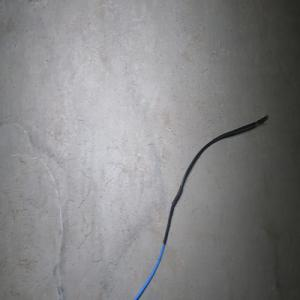Wire: (133, 115, 268, 300)
